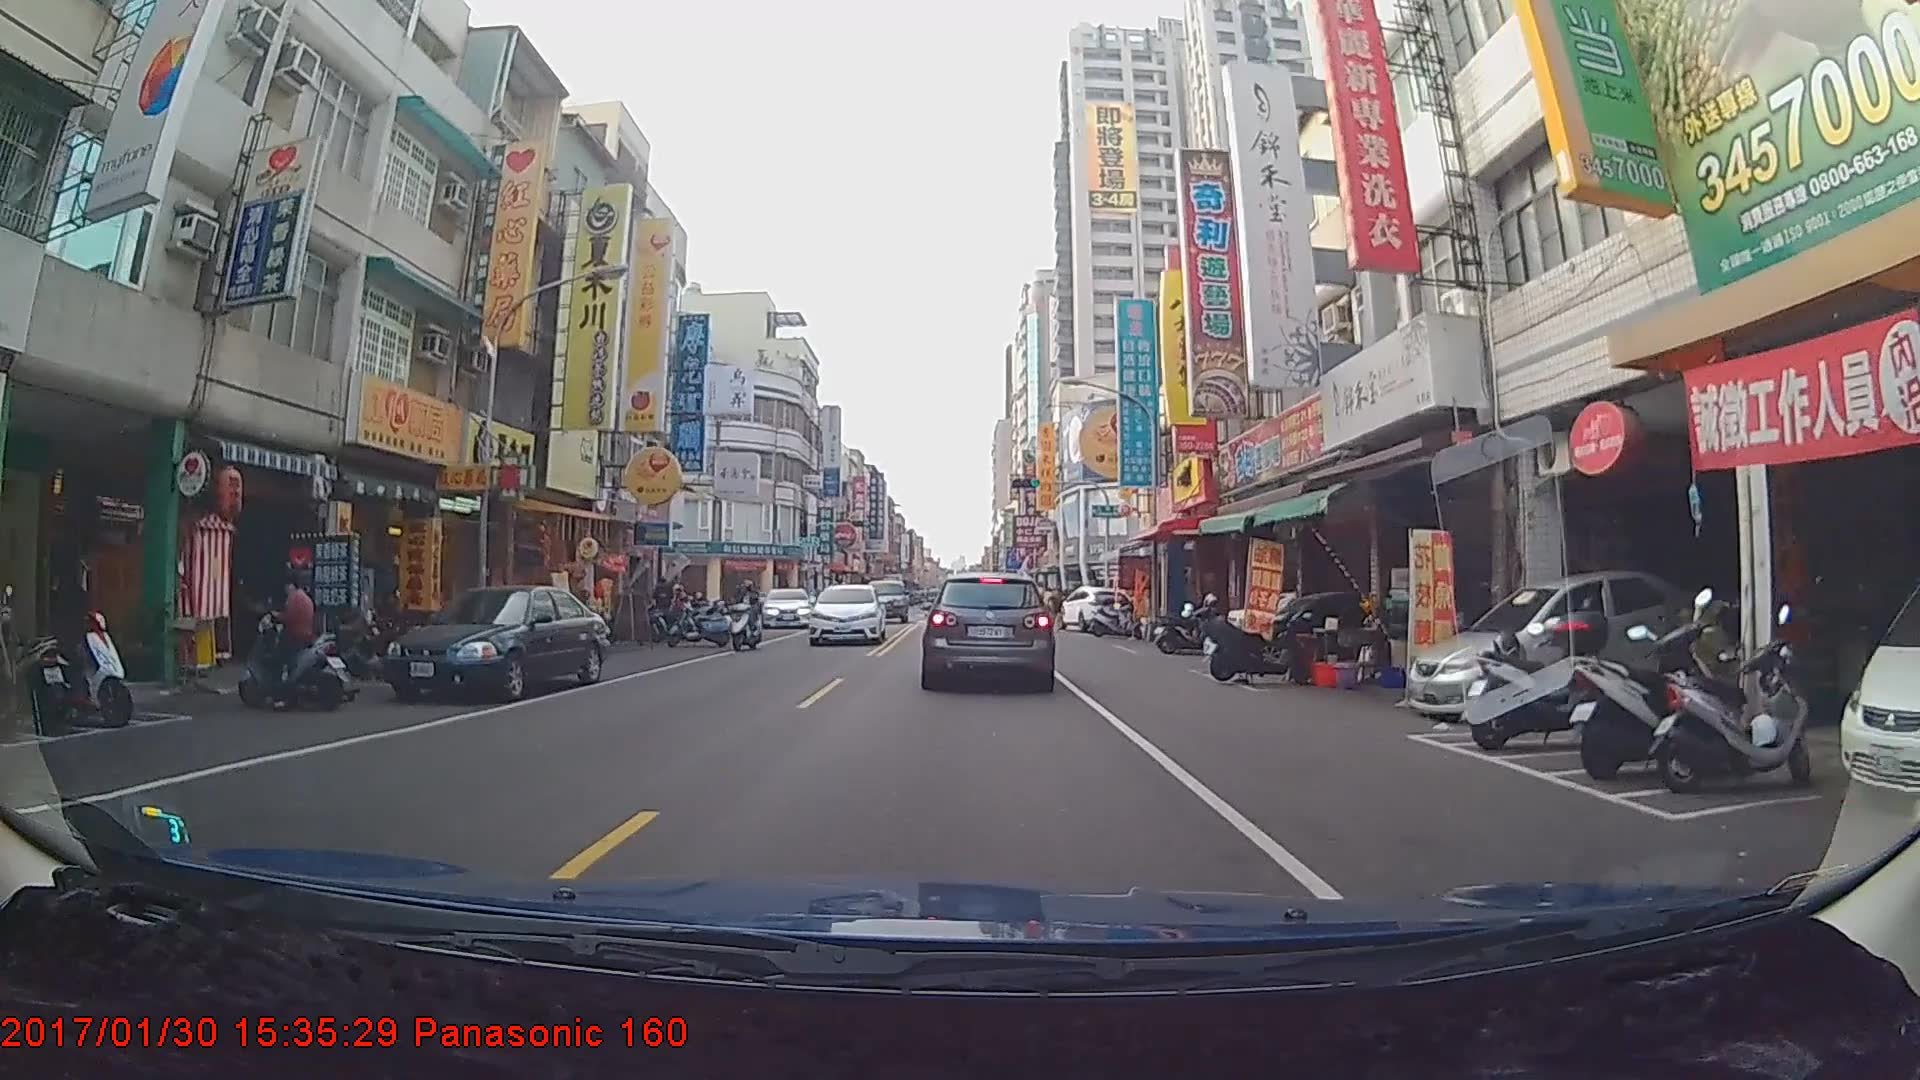pedestrian: (1048, 588, 1068, 637)
rider: (238, 569, 357, 717), (725, 583, 769, 654)
vehicle: (383, 585, 612, 698), (922, 569, 1054, 688), (807, 577, 883, 642), (1056, 583, 1138, 633), (759, 584, 814, 627), (861, 577, 908, 623)
